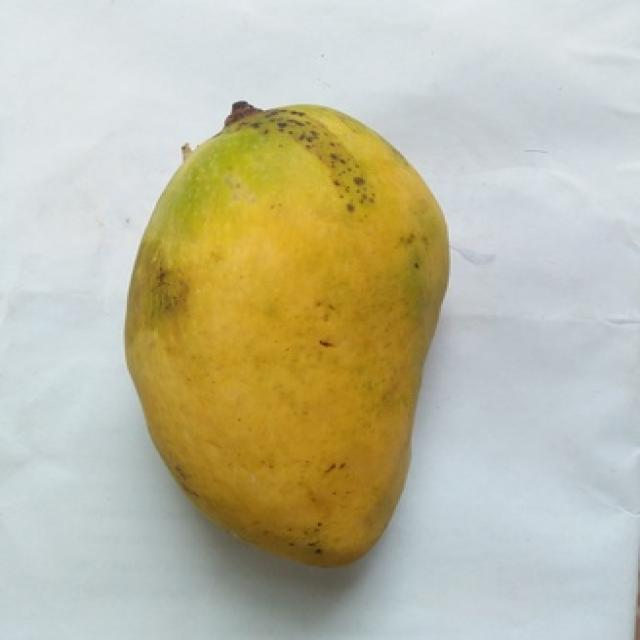Mango: (127, 107, 447, 563)
